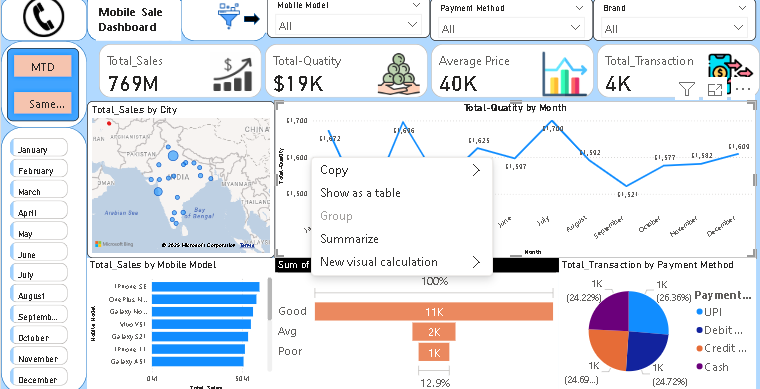

The dashboard page shown, as its layout file describes it:
{"tool":"powerbi","page":{"name":"Dashboard","canvas":[1280,720],"ordinal":0},"visuals":[{"type":"shape","box":[0,55.4,144.5,72.2],"z":0},{"type":"image","box":[25.2,47,92.4,79],"z":1000},{"type":"shape","box":[0,127.7,144.5,146.1],"z":2000},{"type":"shape","box":[0,272.1,144.5,448.5],"z":3000},{"type":"advancedSlicerVisual","fields":{"Values":["Custom_Caleander.Date.Variation.Date Hierarchy.Month"]},"box":[10.1,285.6,107.5,435.1],"z":4000},{"type":"cardVisual","fields":{"Data":["Mobile Sell.Total_Sales","Mobile Sell.Total-Quatity","Mobile Sell.Average Price","Mobile Sell.Total_Transaction"]},"box":[159.6,127.7,1120.4,100.8],"z":5000},{"type":"slicer","fields":{"Values":["Mobile Sell.Mobile Model"]},"box":[446.8,50.4,273.8,72.2],"z":5001},{"type":"slicer","fields":{"Values":["Mobile Sell.Payment Method"]},"box":[720.6,55.4,273.8,72.2],"z":5002},{"type":"slicer","fields":{"Values":["Mobile Sell.Brand"]},"box":[994.4,55.4,273.8,72.2],"z":5003},{"type":"shape","box":[302.4,38.6,144.5,89],"z":5004},{"type":"image","box":[319.2,58.8,127.7,55.4],"z":5005},{"type":"shape","box":[408.2,80.6,26.9,20.2],"z":5006},{"type":"shape","box":[144.5,42,157.9,85.7],"z":5007},{"type":"textbox","box":[159.6,60.5,142.8,67.2],"z":5008},{"type":"map","fields":{"Category":["Mobile Sell.City"],"Size":["Mobile Sell.Total_Sales"]},"box":[144.5,228.5,315.8,263.7],"z":5009},{"type":"lineChart","fields":{"Y":["Mobile Sell.Total-Quatity"],"Category":["Custom_Caleander.Date.Variation.Date Hierarchy.Month"]},"box":[460.3,228.5,808,263.7],"z":5010},{"type":"funnel","fields":{"Y":["Sum(Mobile Sell.Customer Ratings)"],"Category":["Mobile Sell.Rating-Status"]},"box":[460.3,492.2,477.1,228.5],"z":5011},{"type":"pieChart","fields":{"Y":["Mobile Sell.Total_Transaction"],"Category":["Mobile Sell.Payment Method"]},"box":[937,493,331,227],"z":5012},{"type":"barChart","fields":{"Y":["Mobile Sell.Total_Sales"],"Category":["Mobile Sell.Mobile Model"]},"box":[144,492,316,228],"z":5013},{"type":"pageNavigator","box":[0,0,600,50],"z":5014},{"type":"pageNavigator","box":[0,0,600,50],"z":5015},{"type":"pageNavigator","box":[0,0,600,50],"z":5016},{"type":"pageNavigator","box":[10.1,139.4,120.9,122.6],"z":5017}]}

Visuals, with their boxes on the page's 1280x720 design canvas (x1, y1, x2, y2). These are canvas units, not pixel positions in the 760x389 screenshot, which may show the page scaled, cropped or inside an application window:
shape: [0,55,144,128]
image: [25,47,118,126]
shape: [0,128,144,274]
shape: [0,272,144,721]
advancedSlicerVisual - Custom_Caleander.Date.Variation.Date Hierarchy.Month: [10,286,118,721]
cardVisual - Mobile Sell.Total_Sales x Mobile Sell.Total-Quatity: [160,128,1280,228]
slicer - Mobile Sell.Mobile Model: [447,50,721,123]
slicer - Mobile Sell.Payment Method: [721,55,994,128]
slicer - Mobile Sell.Brand: [994,55,1268,128]
shape: [302,39,447,128]
image: [319,59,447,114]
shape: [408,81,435,101]
shape: [144,42,302,128]
textbox: [160,60,302,128]
map - Mobile Sell.City x Mobile Sell.Total_Sales: [144,228,460,492]
lineChart - Mobile Sell.Total-Quatity x Custom_Caleander.Date.Variation.Date Hierarchy.Month: [460,228,1268,492]
funnel - Sum(Mobile Sell.Customer Ratings) x Mobile Sell.Rating-Status: [460,492,937,721]
pieChart - Mobile Sell.Total_Transaction x Mobile Sell.Payment Method: [937,493,1268,720]
barChart - Mobile Sell.Total_Sales x Mobile Sell.Mobile Model: [144,492,460,720]
pageNavigator: [0,0,600,50]
pageNavigator: [0,0,600,50]
pageNavigator: [0,0,600,50]
pageNavigator: [10,139,131,262]
